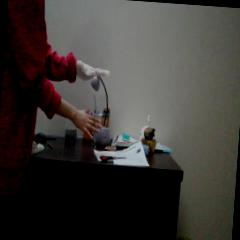gloved: (76, 60, 111, 81)
not-gloved: (72, 106, 102, 139)
